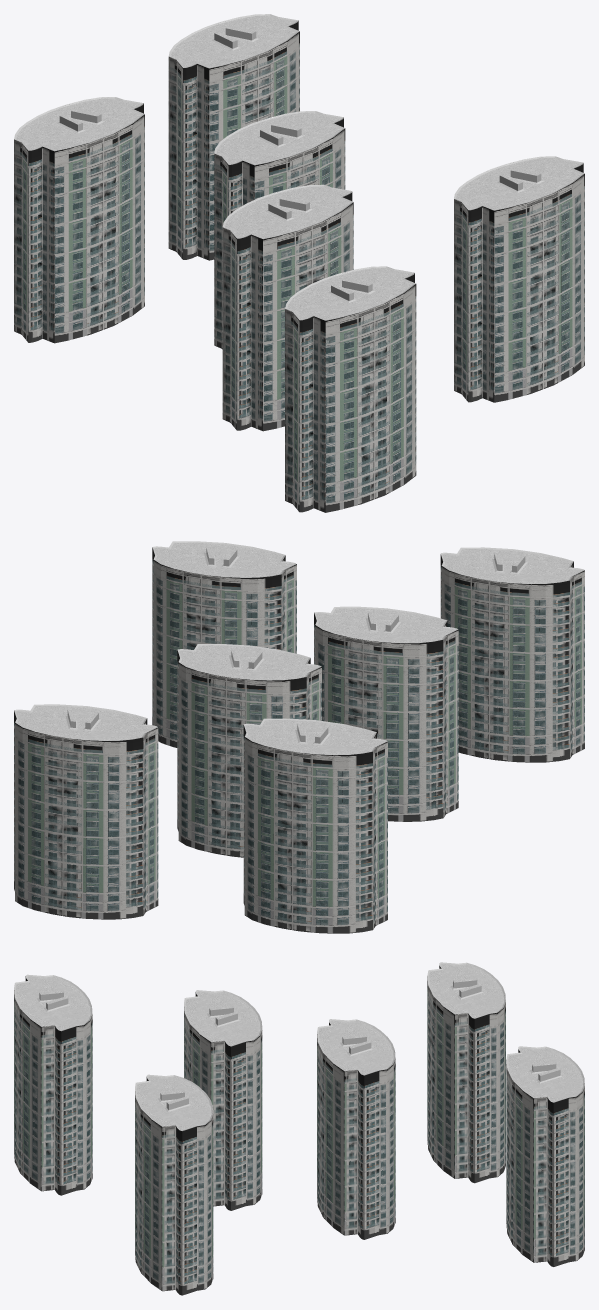
File: xiaoqu1.gltf
3 renders of one model, top to bottom at view 1: azimuth 30°, elevation 25°; view 2: azimuth 150°, elevation 25°; view 3: azimuth 270°, elevation 25°, orthographic. The views are drawn at different scales.
Parts seen in each view (by area): view 1: Line3117632, Line3117634, Line3117631, Line3117635, Line3117630, Line3117629; view 2: Line3117630, Line3117631, Line3117632, Line3117635, Line3117629, Line3117634; view 3: Line3117632, Line3117634, Line3117629, Line3117630, Line3117631, Line3117635.
Part boxes in pixels (x1=…): Line3117632: x1=285, y1=266, x2=416, y2=512; Line3117634: x1=454, y1=156, x2=584, y2=402; Line3117631: x1=14, y1=97, x2=144, y2=343; Line3117635: x1=222, y1=184, x2=353, y2=431; Line3117630: x1=168, y1=14, x2=299, y2=260; Line3117629: x1=214, y1=111, x2=345, y2=349; Line3117630: x1=14, y1=704, x2=158, y2=919; Line3117631: x1=243, y1=718, x2=387, y2=933; Line3117632: x1=440, y1=547, x2=584, y2=762; Line3117635: x1=314, y1=606, x2=458, y2=821; Line3117629: x1=177, y1=644, x2=321, y2=857; Line3117634: x1=152, y1=541, x2=296, y2=747; Line3117632: x1=14, y1=974, x2=92, y2=1195; Line3117634: x1=135, y1=1074, x2=213, y2=1295; Line3117629: x1=317, y1=1019, x2=395, y2=1239; Line3117630: x1=506, y1=1046, x2=584, y2=1266; Line3117631: x1=427, y1=962, x2=505, y2=1183; Line3117635: x1=184, y1=990, x2=262, y2=1210.
Size of the model in its own units: 620 by 291 by 886.
12 materials, 12 textured.
